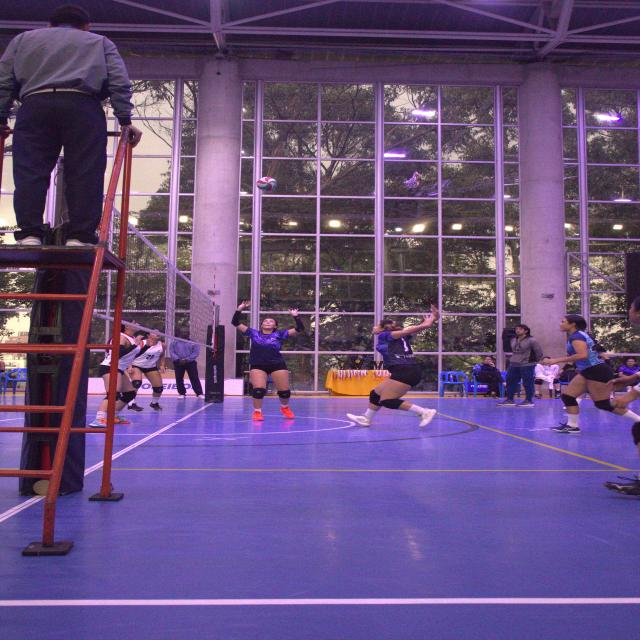volleyball: (256, 176, 277, 191)
